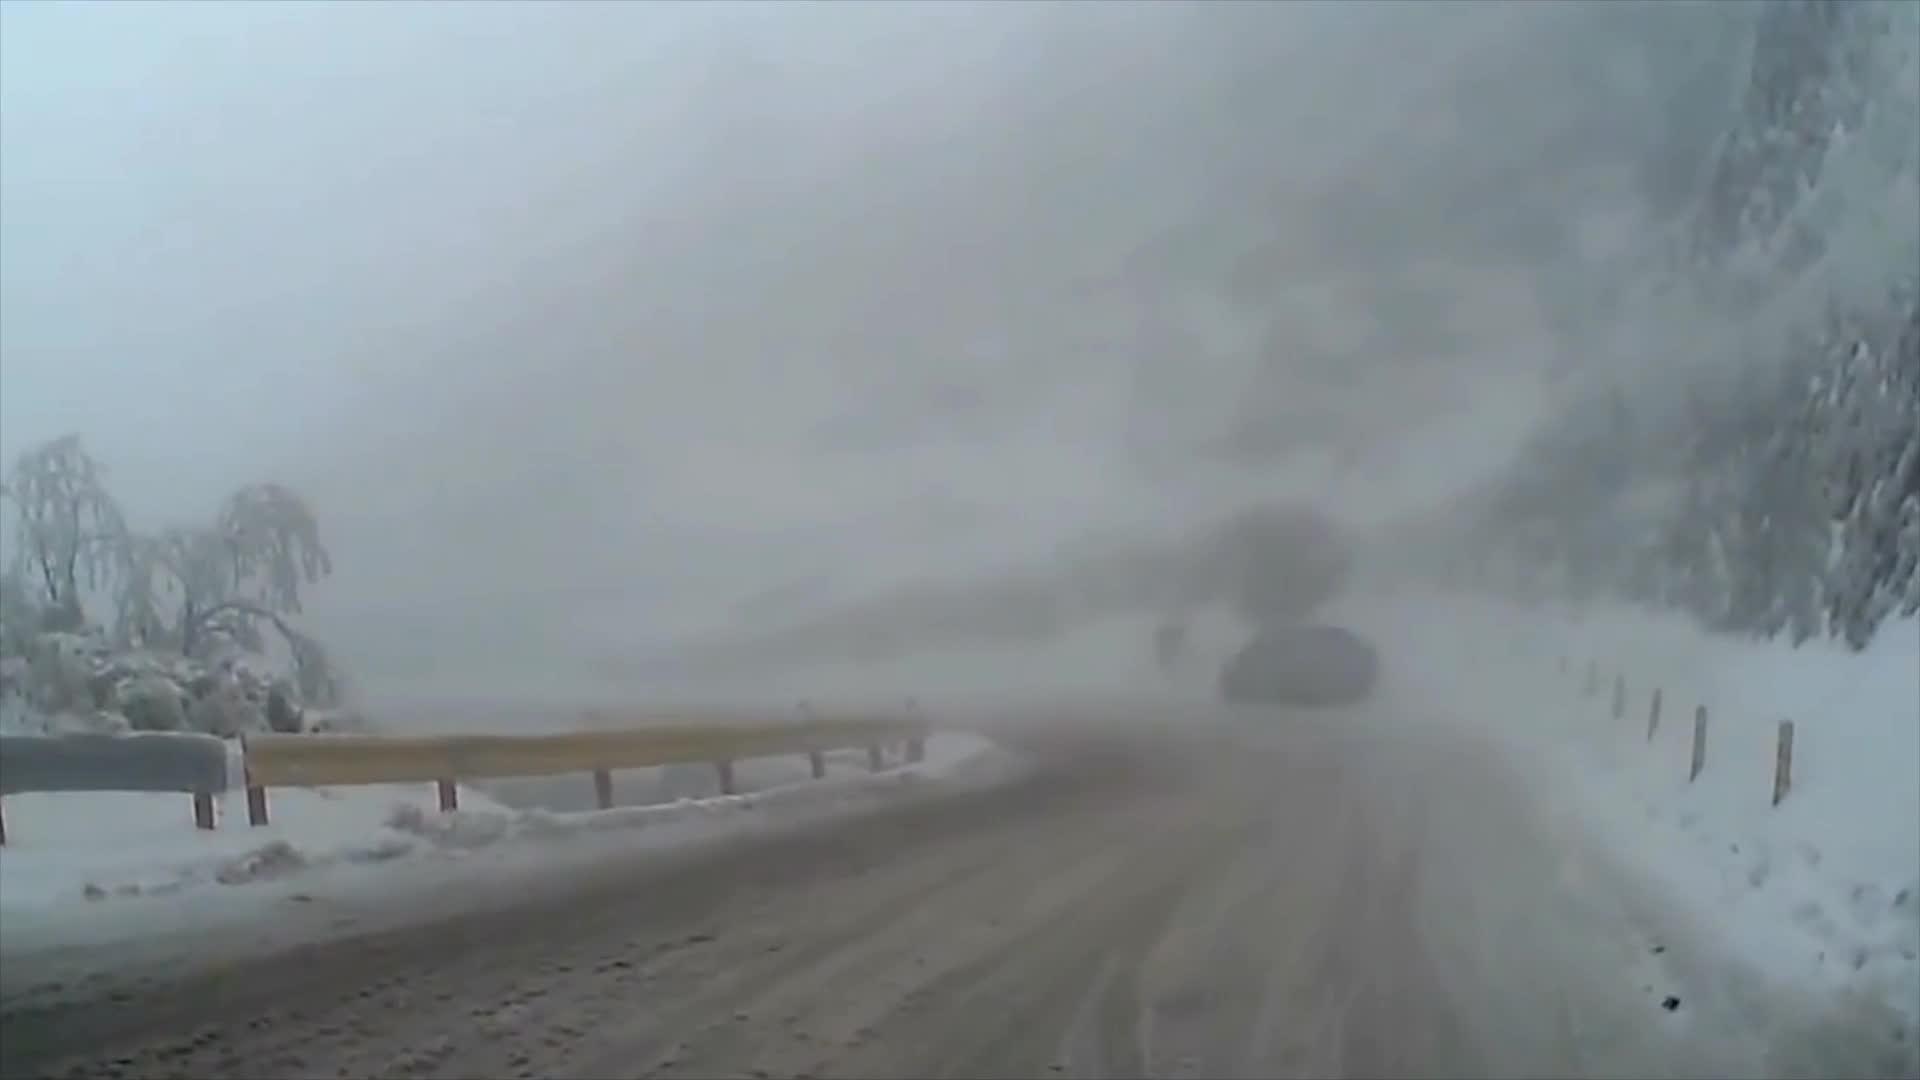vehicle: (1218, 622, 1379, 705)
